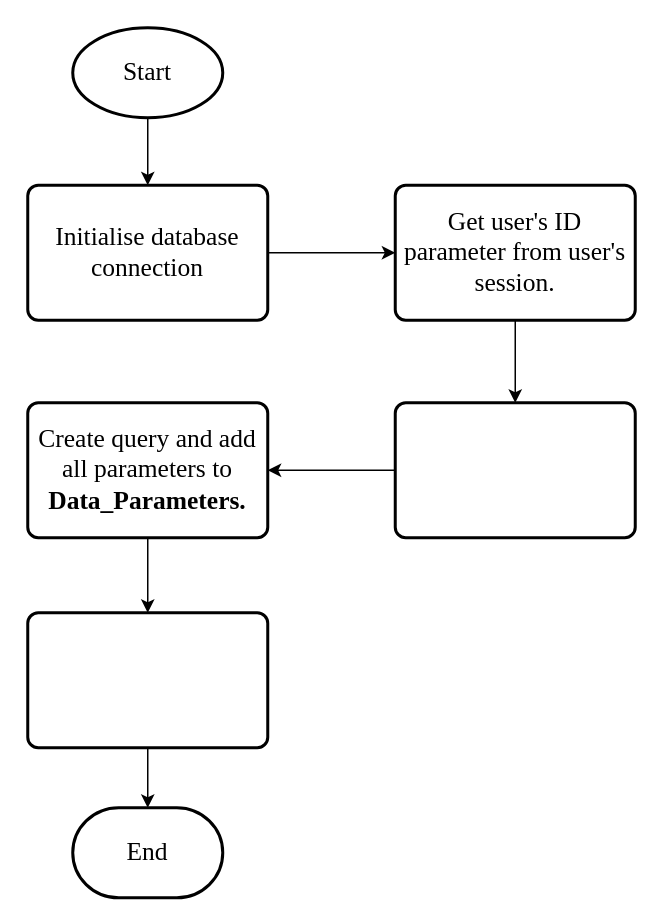
Some shapes in this 662 by 924 pixel diagram are drawn without their labels. The box of each missing label's shape, as (x1, y1, x2, y2) in pixels:
Encode captured parameters as a JSON string.: (393, 400, 636, 538)
Execute the query with the Data_Parameters .: (26, 610, 268, 748)
